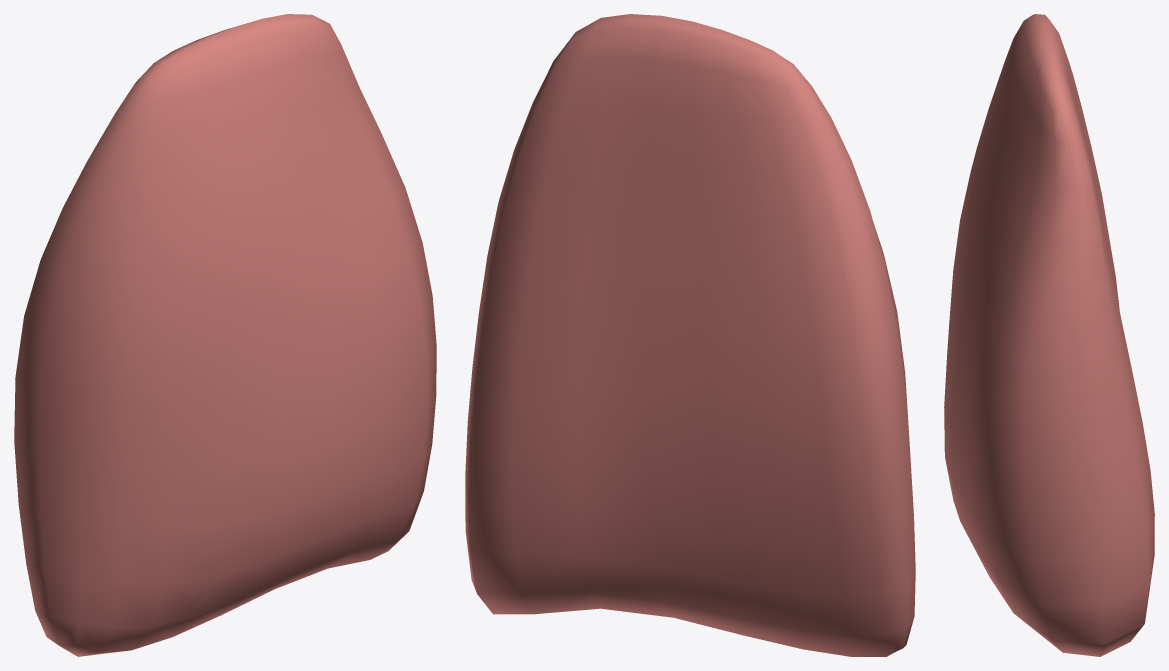
The picture shows the model from 3 angles, left to right: view 1: azimuth 30°, elevation 25°; view 2: azimuth 150°, elevation 25°; view 3: azimuth 270°, elevation 25°; orthographic projection. The views are drawn at different scales.
Parts seen in each view (by area): view 1: ZA_f84527384878b24f; view 2: ZA_f84527384878b24f; view 3: ZA_f84527384878b24f.
Part boxes in pixels (bbox=[...]): ZA_f84527384878b24f: bbox=[14, 14, 436, 656]; ZA_f84527384878b24f: bbox=[465, 14, 915, 656]; ZA_f84527384878b24f: bbox=[944, 14, 1154, 656].
Bounding box in the file's own units: 0.0193 × 0.0267 × 0.00925.
